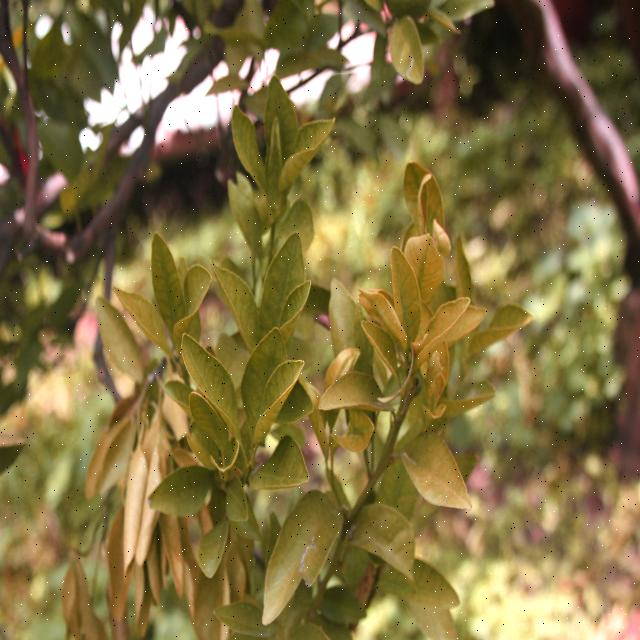greening: (184, 328, 236, 417), (275, 114, 332, 192), (256, 358, 302, 443), (258, 245, 303, 326), (218, 264, 262, 336), (151, 238, 185, 323), (390, 252, 420, 336)
